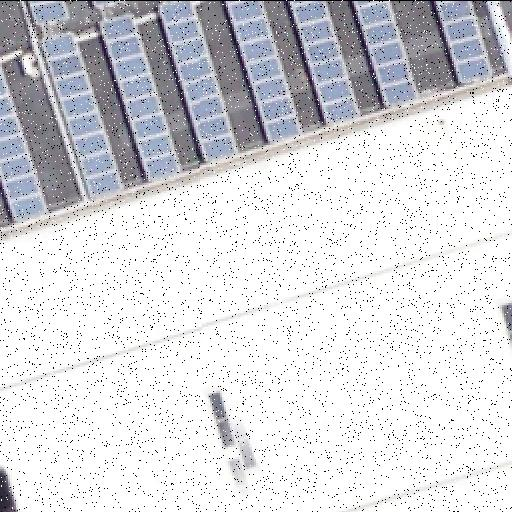solar-panel: (95, 10, 185, 182), (157, 1, 243, 167), (39, 28, 121, 200), (224, 0, 304, 144), (283, 1, 357, 127), (0, 60, 48, 220), (349, 0, 419, 108), (429, 0, 491, 84), (27, 0, 69, 24), (93, 0, 123, 8)
